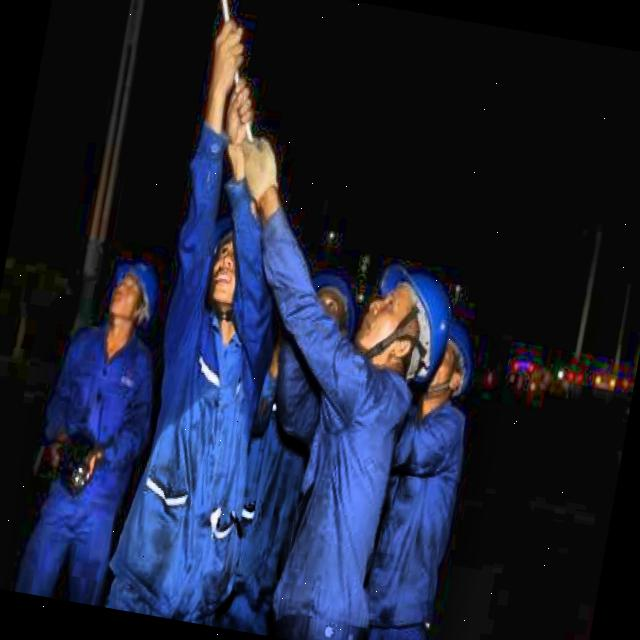helmet: (345, 255, 465, 388), (98, 254, 164, 355), (414, 320, 480, 412), (297, 265, 358, 354)
